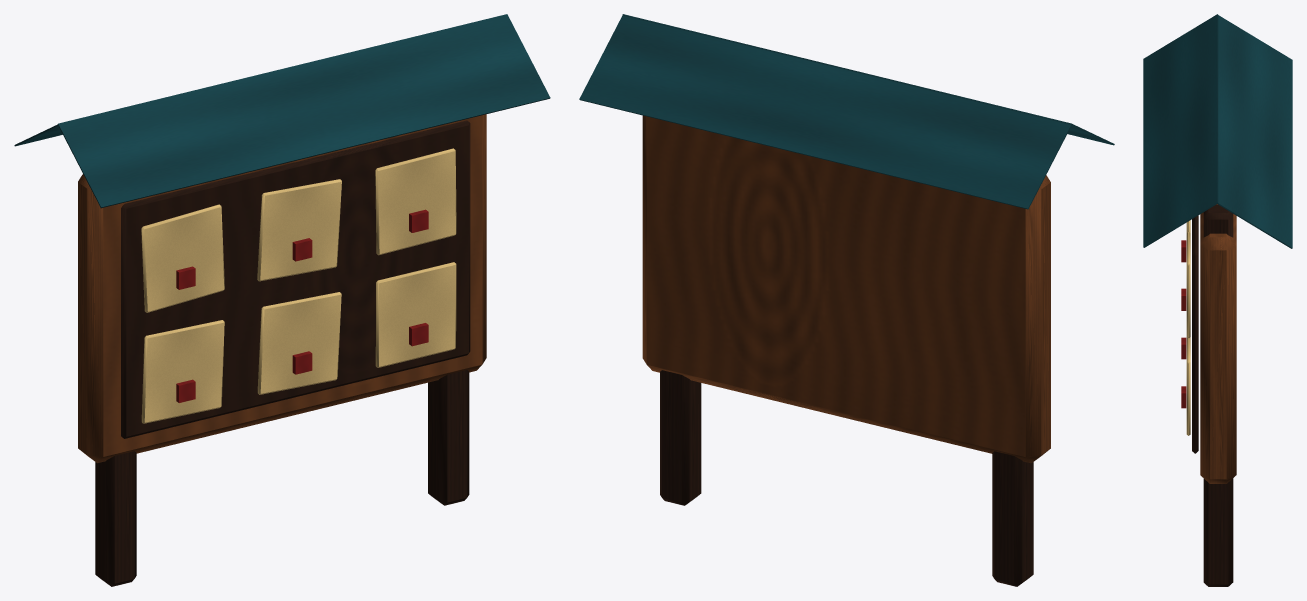
File: Quadro_de_avisos_LOD0.fbx
The picture shows the model from 3 angles, left to right: view 1: azimuth 30°, elevation 25°; view 2: azimuth 150°, elevation 25°; view 3: azimuth 270°, elevation 25°; orthographic projection. The views are drawn at different scales.
Parts seen in each view (by area): view 1: Quadro_de_avisos_LOD0; view 2: Quadro_de_avisos_LOD0; view 3: Quadro_de_avisos_LOD0.
Boxes of the visible parts, left/top/right/bottom form: Quadro_de_avisos_LOD0: left=14, top=14, right=550, bottom=586; Quadro_de_avisos_LOD0: left=579, top=14, right=1114, bottom=586; Quadro_de_avisos_LOD0: left=1143, top=14, right=1292, bottom=586.
Bounding box in the file's own units: 270 × 271 × 90.44.
1 material, 1 textured.
